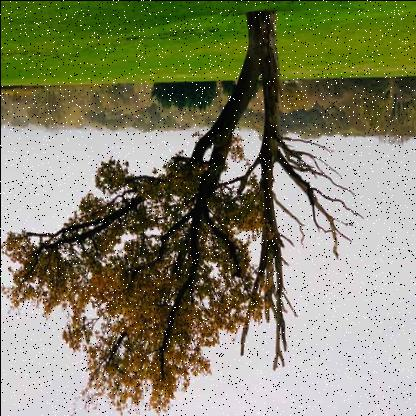Tree: (48, 9, 412, 411), (372, 78, 414, 148), (152, 78, 217, 118), (346, 79, 387, 141), (323, 74, 359, 136), (292, 80, 324, 140), (104, 83, 135, 133), (101, 82, 146, 116), (0, 82, 31, 130), (32, 89, 67, 131), (280, 82, 306, 138), (314, 82, 340, 138), (61, 82, 87, 132), (83, 84, 111, 130), (360, 81, 385, 132), (132, 87, 158, 133), (277, 80, 301, 116), (297, 78, 322, 104), (327, 76, 347, 106), (315, 79, 333, 110), (90, 86, 104, 120), (220, 76, 236, 104)
